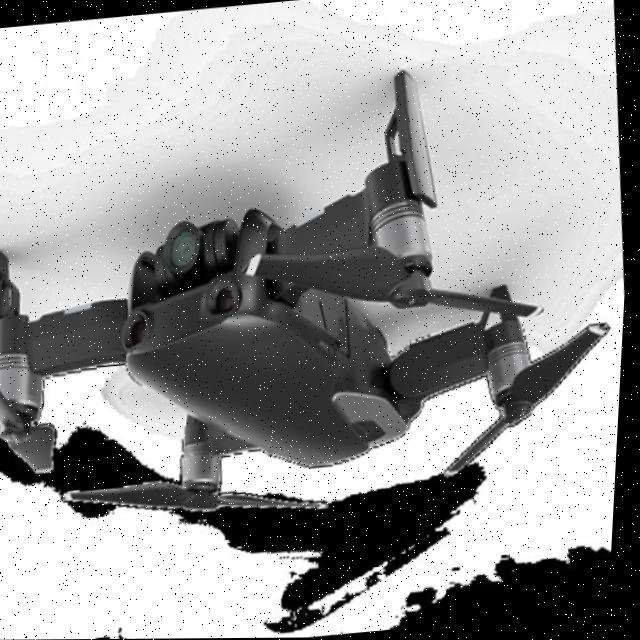drones: (0, 8, 640, 562)
